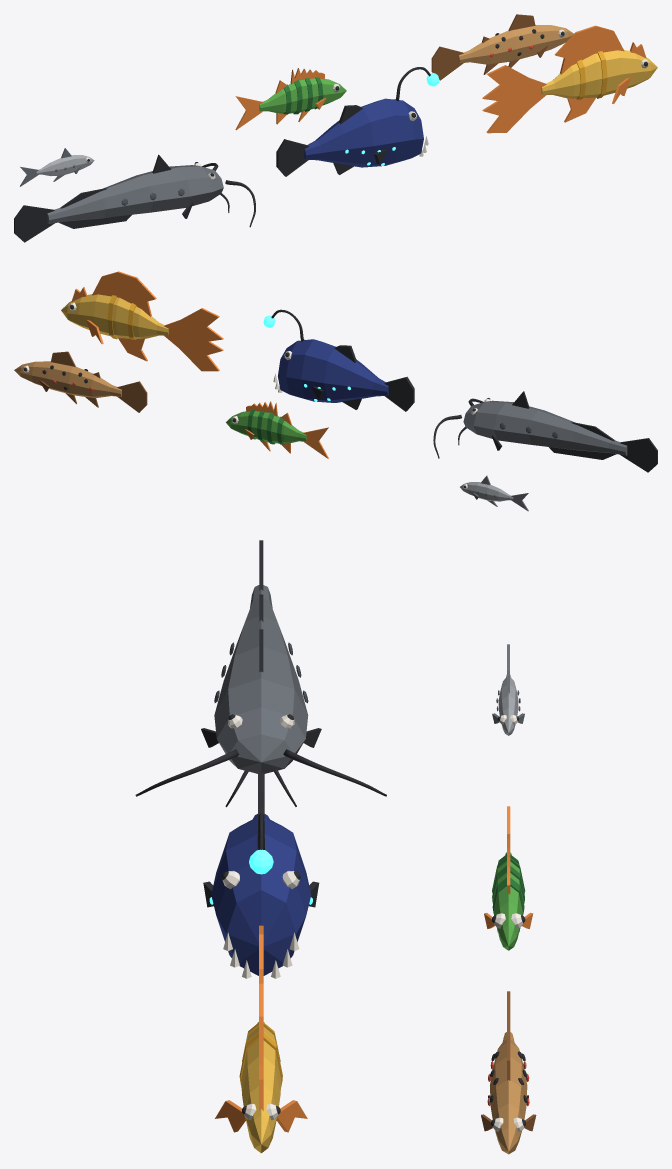
The model's file is rarity-fish-set.glb.
3 views of the same model, one above another, from view 1: azimuth 30°, elevation 25°; view 2: azimuth 150°, elevation 25°; view 3: azimuth 270°, elevation 25° (orthographic). The views are drawn at different scales.
Parts seen in each view (by area): view 1: Fish_Golden, Fish_Catfish, Fish_DeepSea, Fish_Trout, Fish_Perch, Fish_Minnow; view 2: Fish_Golden, Fish_Catfish, Fish_DeepSea, Fish_Trout, Fish_Perch, Fish_Minnow; view 3: Fish_Catfish, Fish_DeepSea, Fish_Golden, Fish_Trout, Fish_Perch, Fish_Minnow.
Boxes of the visible parts, box(x1,y1,x2,y2) form: Fish_Golden: box(482, 25, 657, 133); Fish_Catfish: box(14, 154, 255, 242); Fish_DeepSea: box(276, 67, 439, 176); Fish_Trout: box(431, 14, 573, 80); Fish_Perch: box(235, 68, 346, 130); Fish_Minnow: box(20, 148, 94, 186); Fish_Golden: box(61, 271, 223, 371); Fish_Catfish: box(433, 391, 657, 472); Fish_DeepSea: box(263, 309, 414, 411); Fish_Trout: box(14, 351, 147, 412); Fish_Perch: box(226, 401, 328, 458); Fish_Minnow: box(460, 475, 528, 511); Fish_Catfish: box(135, 540, 386, 807); Fish_DeepSea: box(203, 772, 319, 978); Fish_Golden: box(215, 925, 307, 1153); Fish_Trout: box(481, 991, 536, 1154); Fish_Perch: box(484, 806, 533, 950); Fish_Minnow: box(492, 644, 524, 735).
Size of the model in its own units: 22.02 by 2.98 by 6.41.
